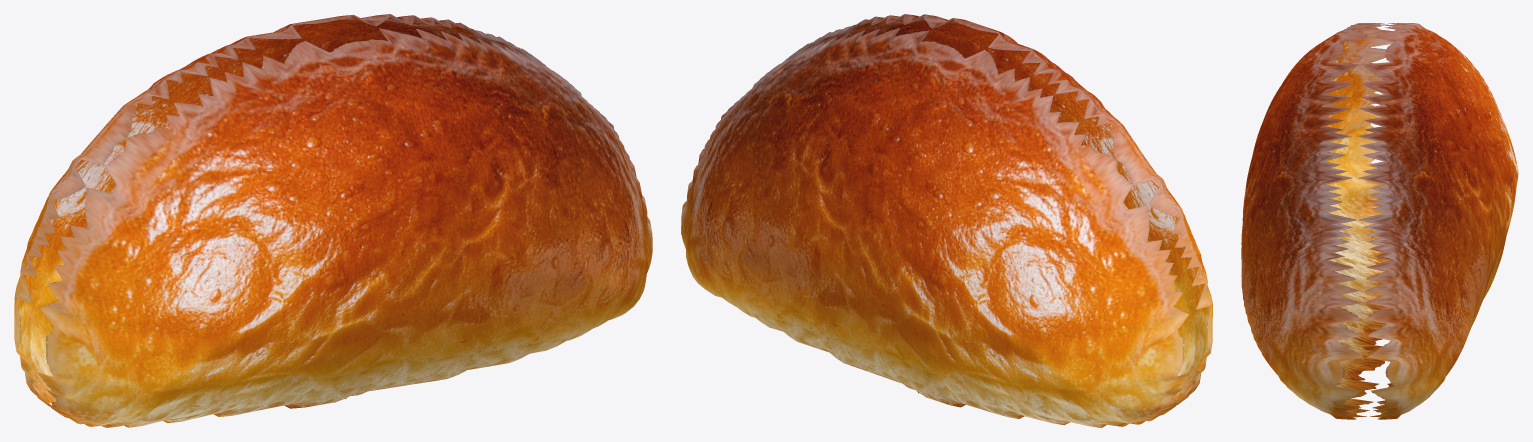
Rendered from brioche.glb.
The picture shows the model from 3 angles, left to right: view 1: azimuth 30°, elevation 25°; view 2: azimuth 150°, elevation 25°; view 3: azimuth 270°, elevation 25°; orthographic projection. The views are drawn at different scales.
Visible parts, largest first — view 1: brioche; view 2: brioche; view 3: brioche.
Boxes of the visible parts, box(x1,y1,x2,y2) form: brioche: box(14, 14, 652, 427); brioche: box(681, 14, 1212, 427); brioche: box(1241, 23, 1518, 419).
Size of the model in its own units: 1.98 by 1.23 by 1.01.
1 material, 1 textured.
